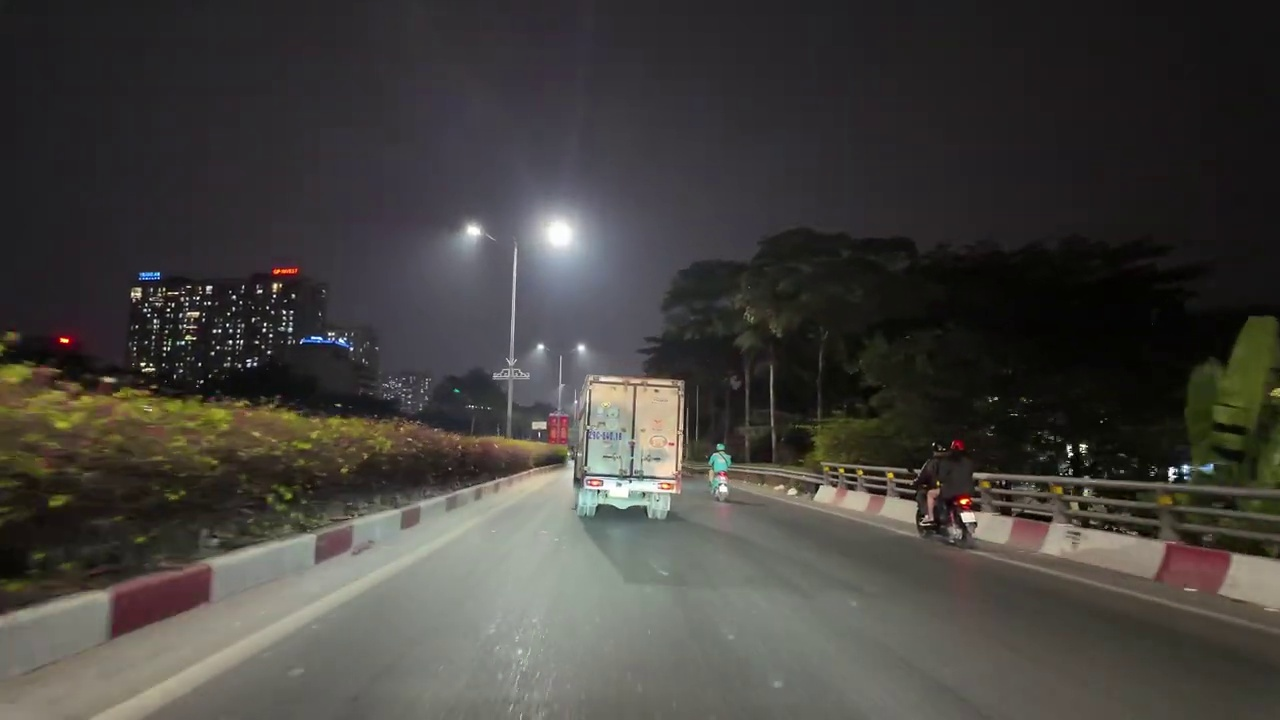acesa: (541, 216, 576, 250), (455, 218, 487, 250), (572, 340, 593, 363)
